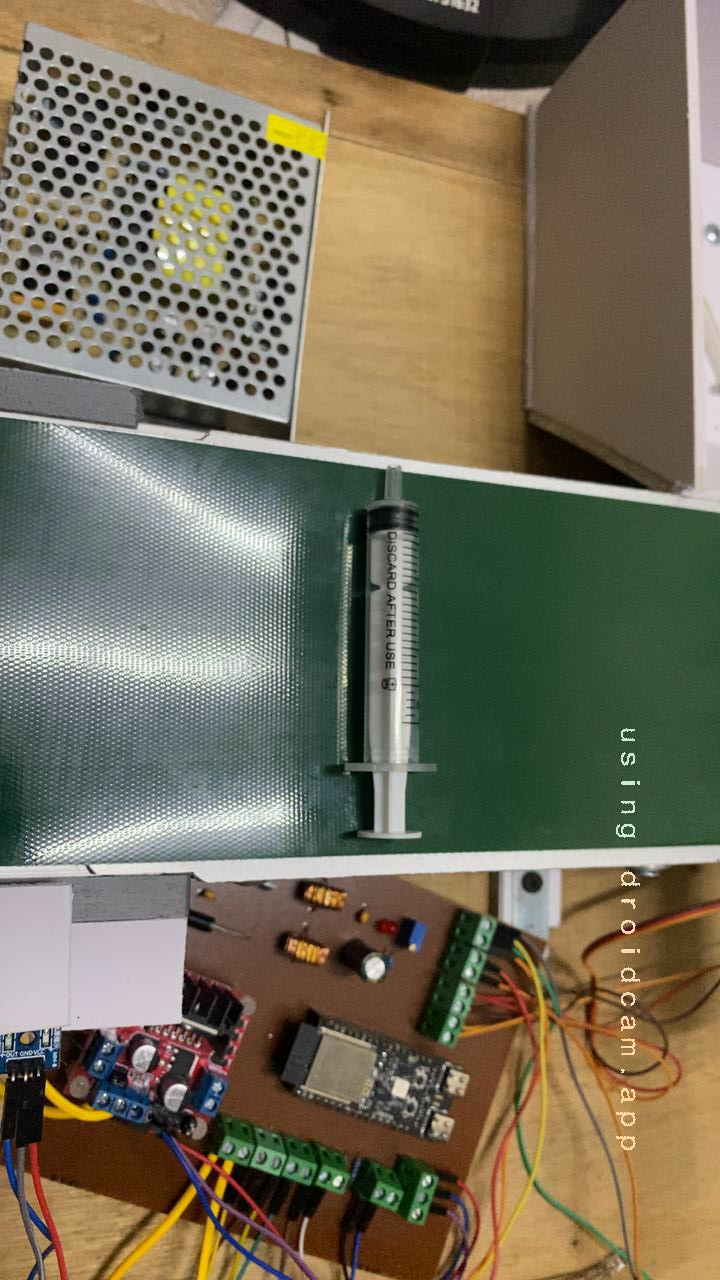syringe: (300, 472, 464, 886)
